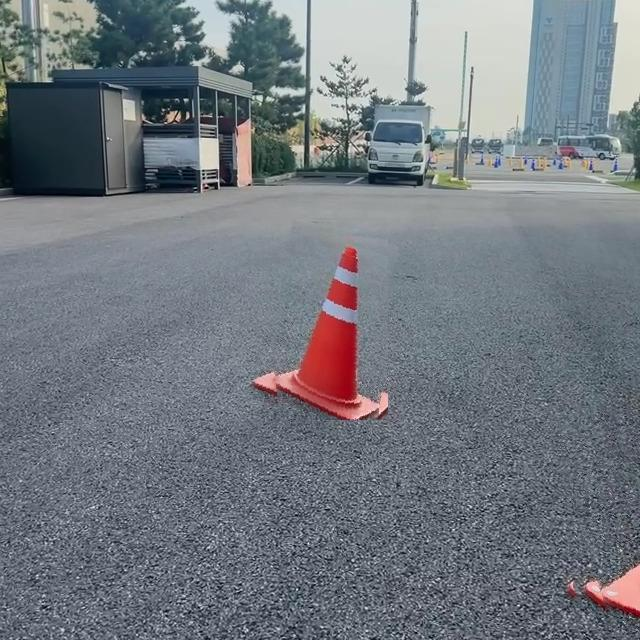fallen_object: (209, 222, 397, 418)
